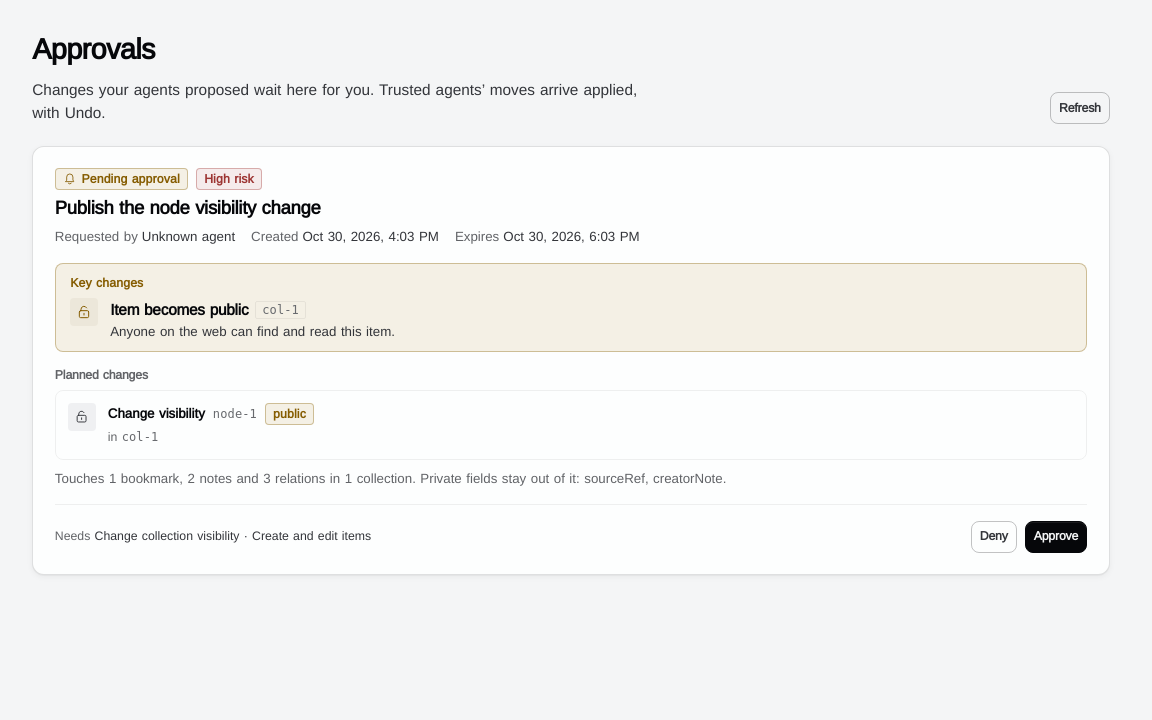
MCP-W08 Write approvals page › converges after a multi-tab race when refresh shows the plan was consumed
Step 1. Click the button "Approve" → point(1056, 537), box [1025,521,1087,553]
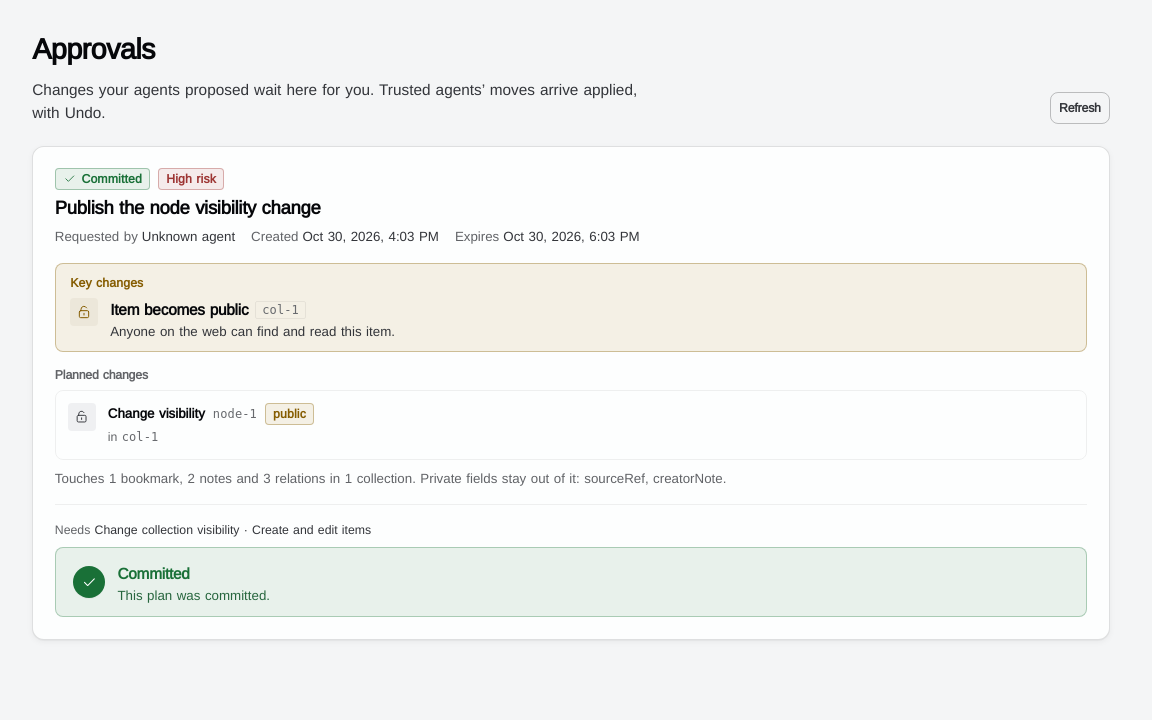
Now the text "Committed" is shown, box [55,168,150,190]
